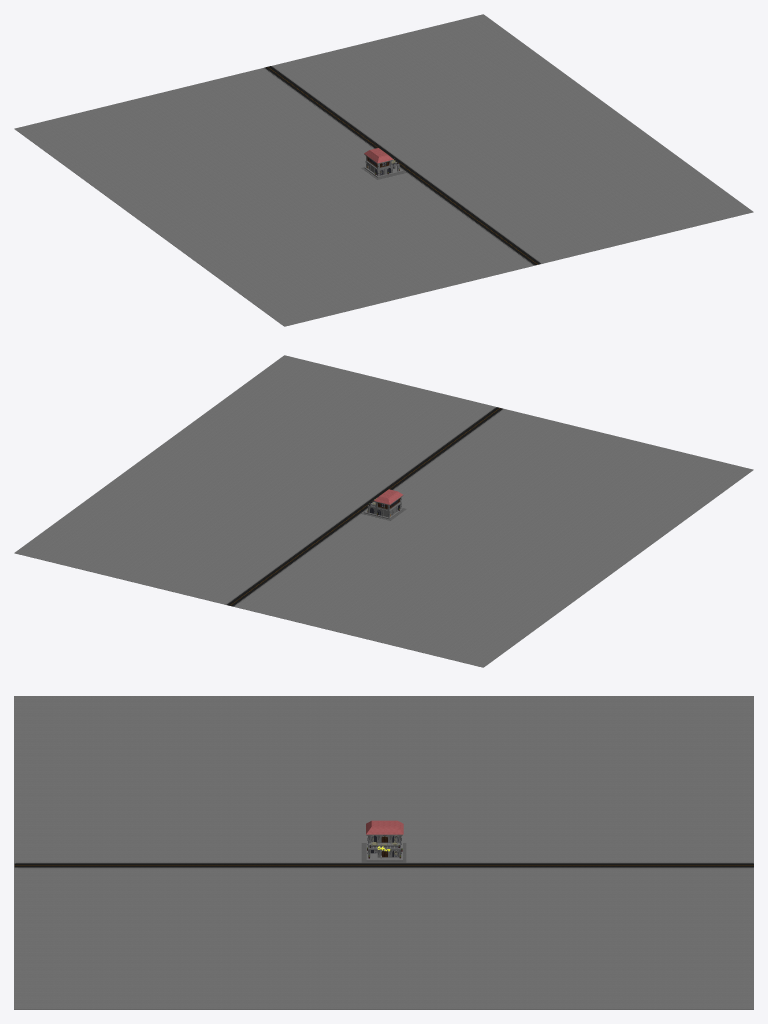
Rendered from exportedwtfcafenew.glb.
3 renders of one model, top to bottom at view 1: azimuth 30°, elevation 25°; view 2: azimuth 150°, elevation 25°; view 3: azimuth 270°, elevation 25°, orthographic. The views are drawn at different scales.
Parts seen in each view (by area): view 1: concrete_2, ConcreteDarker, ConcreteDark; view 2: concrete_2, ConcreteDarker, ConcreteDark; view 3: concrete_2, ConcreteDarker, ConcreteDark, ConcreteGrey, ConcreteYellow, Bricks.
Boxes of the visible parts, box(x1,y1,x2,y2) form: concrete_2: box(14, 14, 753, 326); ConcreteDarker: box(264, 66, 540, 265); ConcreteDark: box(264, 66, 540, 265); concrete_2: box(14, 355, 753, 667); ConcreteDarker: box(227, 407, 502, 606); ConcreteDark: box(226, 408, 503, 606); concrete_2: box(14, 696, 753, 1009); ConcreteDarker: box(14, 863, 753, 867); ConcreteDark: box(16, 843, 752, 868); ConcreteGrey: box(15, 863, 753, 867); ConcreteYellow: box(15, 865, 753, 865); Bricks: box(366, 820, 403, 834).
Bounding box in the file's own units: 1067 × 43 × 1064.
19 materials, 18 textured.
